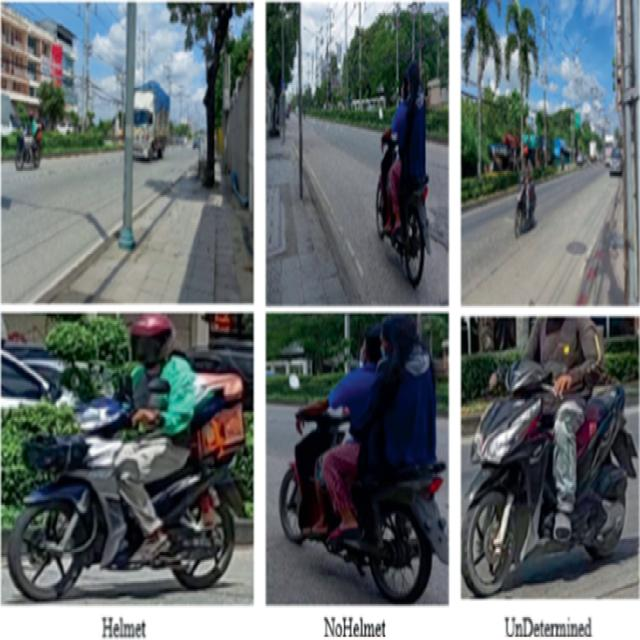Bike: (7, 394, 244, 603), (462, 361, 635, 600), (276, 392, 446, 603), (365, 121, 435, 289)
